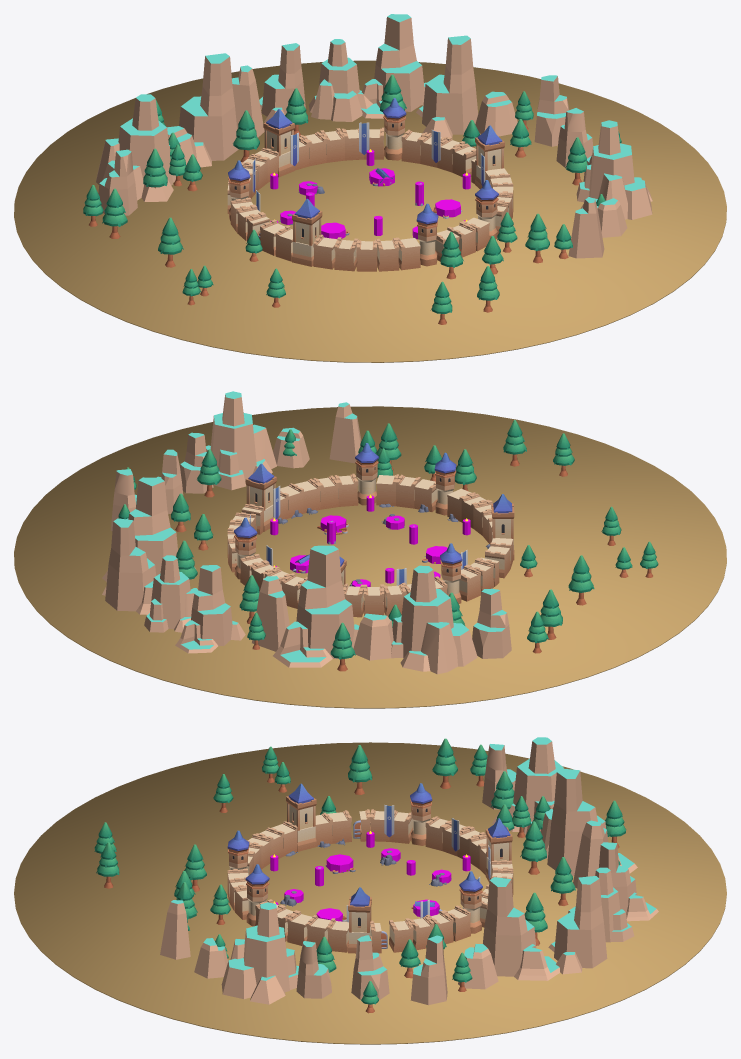
The model's file is coliseu.glb.
3 views of the same model, one above another, from view 1: azimuth 30°, elevation 25°; view 2: azimuth 150°, elevation 25°; view 3: azimuth 270°, elevation 25° (orthographic).
Visible parts, largest first — view 1: GROUND_sand, static_colormap_castle, KEN_rock_tallA_108, KEN_rock_tallA_103, KEN_rock_tallB_98, KEN_rock_tallB_110, KEN_rock_tallA_104, KEN_rock_tallB_105, KEN_rock_tallA_106, KEN_rock_tallG_101, KEN_rock_tallC_96, KEN_rock_tallG_111 (+11 smaller); view 2: GROUND_sand, static_colormap_castle, KEN_rock_tallB_110, KEN_rock_tallA_108, KEN_rock_tallB_98, KEN_rock_tallA_104, KEN_rock_tallA_106, KEN_rock_tallA_103, KEN_rock_tallB_105, KEN_rock_tallG_111, KEN_rock_tallC_107, KEN_rock_tallE_109 (+12 smaller); view 3: GROUND_sand, static_colormap_castle, KEN_rock_tallB_98, KEN_rock_tallA_103, KEN_rock_tallA_104, KEN_rock_tallA_108, KEN_rock_tallB_110, KEN_rock_tallG_101, KEN_rock_tallA_106, KEN_rock_tallG_100, KEN_rock_tallB_105, KEN_rock_tallG_99 (+13 smaller).
Boxes of the visible parts, box(x1,y1,x2,y2) form: GROUND_sand: box(14, 60, 726, 362); static_colormap_castle: box(83, 74, 621, 324); KEN_rock_tallA_108: box(179, 53, 238, 167); KEN_rock_tallA_103: box(416, 35, 478, 138); KEN_rock_tallB_98: box(576, 120, 652, 219); KEN_rock_tallB_110: box(96, 94, 175, 201); KEN_rock_tallA_104: box(361, 14, 426, 118); KEN_rock_tallB_105: box(309, 39, 372, 121); KEN_rock_tallA_106: box(259, 43, 305, 122); KEN_rock_tallG_101: box(534, 75, 569, 146); KEN_rock_tallC_96: box(568, 197, 604, 258); KEN_rock_tallG_111: box(98, 149, 137, 215); GROUND_sand: box(14, 406, 726, 708); static_colormap_castle: box(118, 420, 658, 671); KEN_rock_tallB_110: box(391, 565, 477, 674); KEN_rock_tallA_108: box(273, 545, 359, 667); KEN_rock_tallB_98: box(206, 391, 276, 490); KEN_rock_tallA_104: box(102, 518, 156, 614); KEN_rock_tallA_106: box(175, 565, 245, 653); KEN_rock_tallA_103: box(102, 477, 195, 581); KEN_rock_tallB_105: box(144, 555, 197, 632); KEN_rock_tallG_111: box(472, 588, 511, 658); KEN_rock_tallC_107: box(252, 576, 289, 651); KEN_rock_tallE_109: box(353, 613, 393, 660); GROUND_sand: box(14, 742, 726, 1044); static_colormap_castle: box(94, 738, 626, 1013); KEN_rock_tallB_98: box(221, 902, 298, 1004); KEN_rock_tallA_103: box(483, 877, 560, 980); KEN_rock_tallA_104: box(548, 876, 607, 974); KEN_rock_tallA_108: box(546, 768, 637, 875); KEN_rock_tallB_110: box(492, 737, 563, 834); KEN_rock_tallG_101: box(410, 935, 447, 1005); KEN_rock_tallA_106: box(599, 842, 658, 921); KEN_rock_tallG_100: box(351, 935, 389, 1000); KEN_rock_tallB_105: box(568, 867, 634, 942); KEN_rock_tallG_99: box(296, 941, 331, 998).
Bounding box in the file's own units: 140 × 21.32 × 140.
8 materials, 2 textured.
